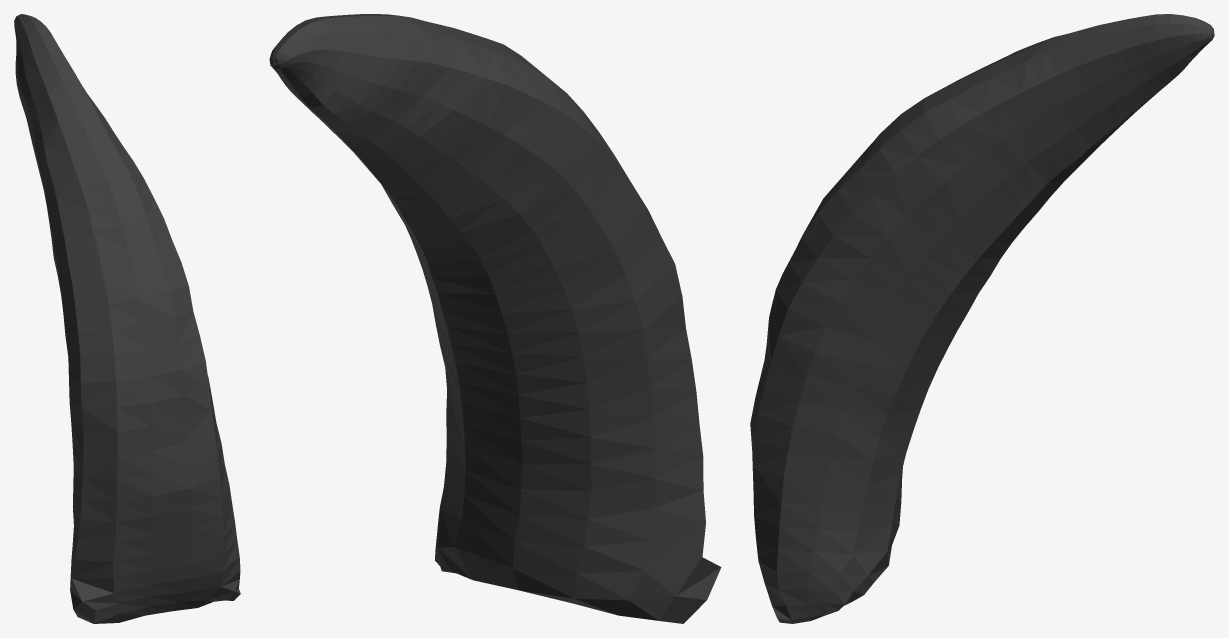
File: R_max_I1.glb
3 renders of one model, left to right at view 1: azimuth 30°, elevation 25°; view 2: azimuth 150°, elevation 25°; view 3: azimuth 270°, elevation 25°, orthographic. The views are drawn at different scales.
Visible parts, largest first — view 1: R_max_I1; view 2: R_max_I1; view 3: R_max_I1.
Part boxes in pixels (x1=…): R_max_I1: x1=14, y1=14, x2=240, y2=623; R_max_I1: x1=269, y1=14, x2=721, y2=623; R_max_I1: x1=750, y1=14, x2=1214, y2=623.
Size of the model in its own units: 0.2945 by 0.8262 by 0.5958.
1 material, 1 textured.
